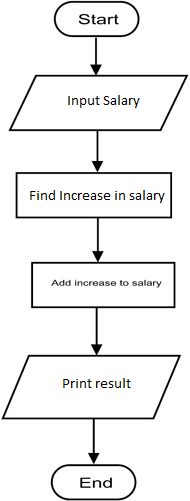arrow: (86, 308, 105, 357), (86, 414, 102, 466), (90, 215, 107, 261), (90, 127, 106, 173), (89, 35, 105, 75)
data: (1, 351, 182, 422), (7, 72, 189, 135)
process: (13, 169, 176, 221), (27, 258, 178, 312)
terminator: (47, 461, 139, 501), (50, 1, 142, 38)
text: (27, 188, 167, 203), (49, 276, 165, 291), (63, 92, 142, 109), (60, 375, 134, 391), (76, 10, 121, 28), (77, 474, 115, 491)
